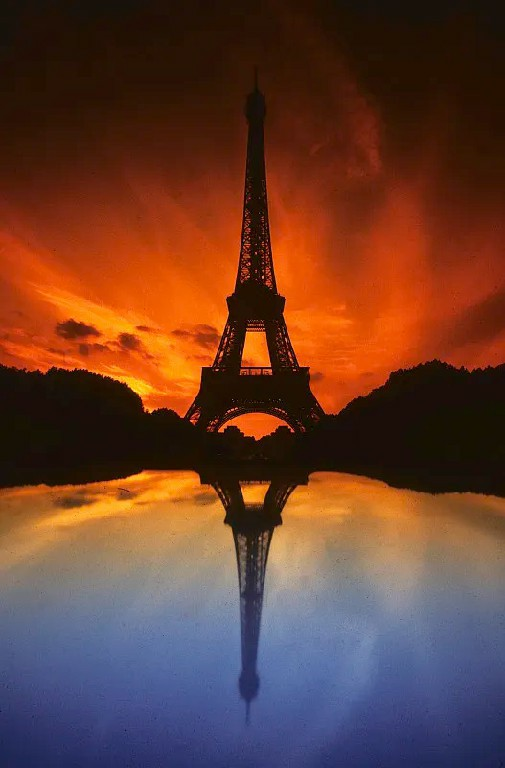Eiffel: (183, 65, 329, 433)
